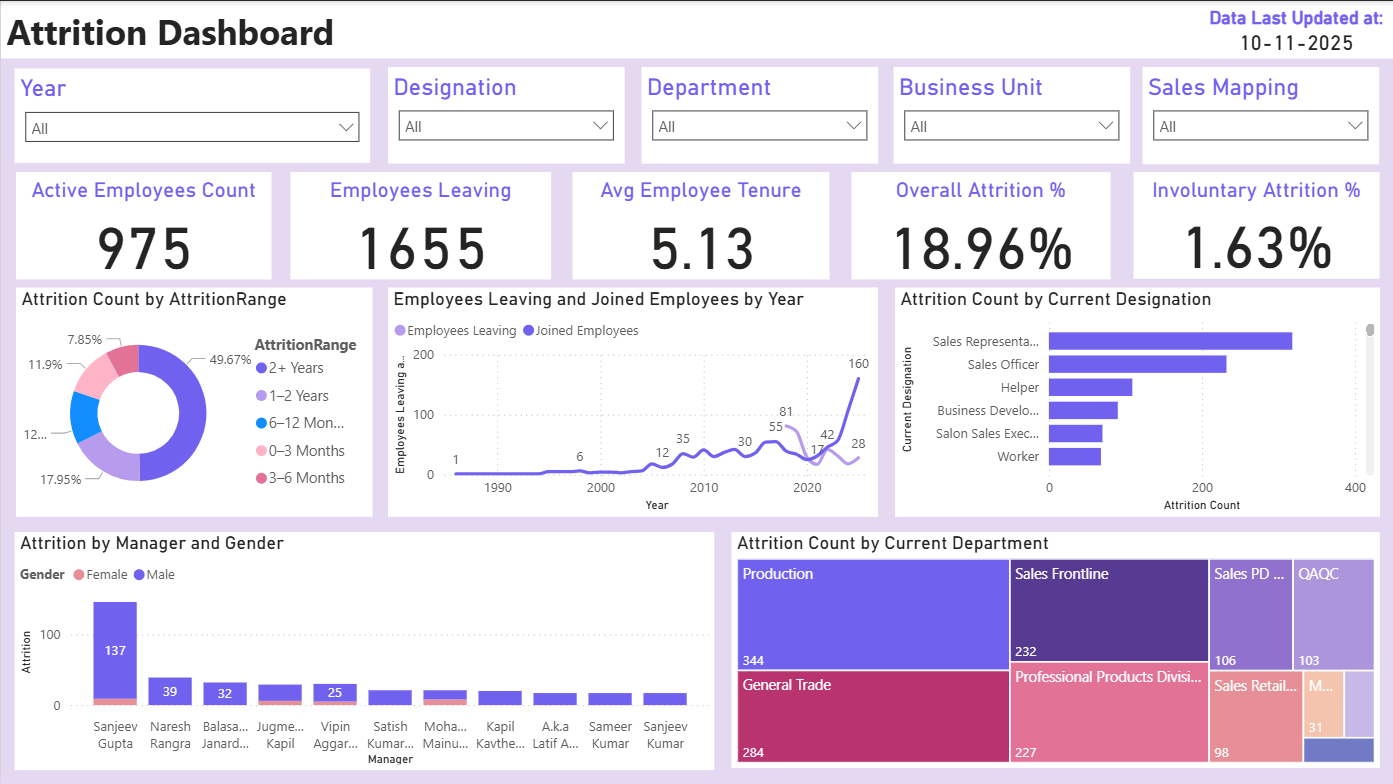

The dashboard page shown, as its layout file describes it:
{"tool":"powerbi","page":{"name":"Page 1","canvas":[1280,720],"ordinal":0},"visuals":[{"type":"textbox","box":[0,0,1279.4,52.9],"z":0},{"type":"slicer","title":"Designation","fields":{"Values":["AttritionDashboard.Current Designation"]},"box":[355.3,60.4,217.3,88.8],"z":1000},{"type":"slicer","title":"Department","fields":{"Values":["AttritionDashboard.Current Department"]},"box":[587.7,60.4,217.3,88.8],"z":2000},{"type":"slicer","title":"Business Unit","fields":{"Values":["AttritionDashboard.Business Unit"]},"box":[820.2,60.4,217.3,88.8],"z":3000},{"type":"card","title":"Active Employees Count","fields":{"Values":["Table.Active Employees Count"]},"box":[13.6,157.5,234.7,98.4],"z":4000},{"type":"card","title":"Avg Employee Tenure","fields":{"Values":["Table.Avg Employee Tenure (Years)"]},"box":[525.4,157.5,236.2,98.4],"z":5000},{"type":"card","title":"Employees Leaving","fields":{"Values":["Table.Employees Leaving"]},"box":[266.5,157.5,239.2,98.4],"z":6000},{"type":"card","title":"Overall Attrition %","fields":{"Values":["Table.Attrition %"]},"box":[781.3,157.5,237.7,98.4],"z":7000},{"type":"card","title":"Involuntary Attrition %","fields":{"Values":["Table.Involuntary Attrition %"]},"box":[1040,157.2,226,98],"z":8000},{"type":"donutChart","fields":{"Category":["AttritionDashboard.AttritionRange"],"Y":["Table.Attrition Count"]},"box":[13.6,263.4,327.1,210.5],"z":9000},{"type":"lineChart","fields":{"Y":["Table.Employees Leaving","Table.Active Employees"],"Category":["Calendar.Date.Variation.Date Hierarchy.Year"]},"box":[355.8,263.4,449.7,210.5],"z":10000},{"type":"clusteredBarChart","fields":{"Category":["AttritionDashboard.Current Designation"],"Y":["Table.Attrition Count"]},"box":[820.7,263.4,445.2,210.5],"z":11000},{"type":"slicer","title":"Sales Mapping","fields":{"Values":["AttritionDashboard.Sales_mapping"]},"box":[1048.5,60,217.5,89.3],"z":12000},{"type":"slicer","title":"Year","fields":{"Values":["Calendar.Year","Calendar.Month Name"]},"box":[13,61.3,326.9,86.6],"z":13000},{"type":"columnChart","fields":{"Category":["AttritionDashboard.Direct Manager Name"],"Y":["Table.Attrition Count"],"Series":["AttritionDashboard.Gender"]},"box":[13,487,642.9,218.6],"z":14000},{"type":"treemap","fields":{"Values":["Table.Attrition Count"],"Group":["AttritionDashboard.Current Department"]},"box":[671,487,595.3,216.5],"z":15000},{"type":"card","title":"Data Last Updated at:","fields":{"Values":["Table.latestUpdate"]},"box":[1099.3,0,180.2,53],"z":15001}]}

Visuals, with their boxes in screenshot pixels (x1, y1, x2, y2), scaled from the page's 1280x720 canvas onto the 1393x784 screenshot:
textbox: <box>0,0,1392,58</box>
"Designation" slicer: <box>387,66,623,162</box>
"Department" slicer: <box>640,66,876,162</box>
"Business Unit" slicer: <box>893,66,1129,162</box>
"Active Employees Count" card: <box>15,171,270,279</box>
"Avg Employee Tenure" card: <box>572,171,829,279</box>
"Employees Leaving" card: <box>290,171,550,279</box>
"Overall Attrition %" card: <box>850,171,1109,279</box>
"Involuntary Attrition %" card: <box>1132,171,1378,278</box>
donutChart - AttritionDashboard.AttritionRange x Table.Attrition Count: <box>15,287,371,516</box>
lineChart - Table.Employees Leaving x Table.Active Employees: <box>387,287,877,516</box>
clusteredBarChart - AttritionDashboard.Current Designation x Table.Attrition Count: <box>893,287,1378,516</box>
"Sales Mapping" slicer: <box>1141,65,1378,163</box>
"Year" slicer: <box>14,67,370,161</box>
columnChart - AttritionDashboard.Direct Manager Name x Table.Attrition Count: <box>14,530,714,768</box>
treemap - Table.Attrition Count x AttritionDashboard.Current Department: <box>730,530,1378,766</box>
"Data Last Updated at:" card: <box>1196,0,1392,58</box>
